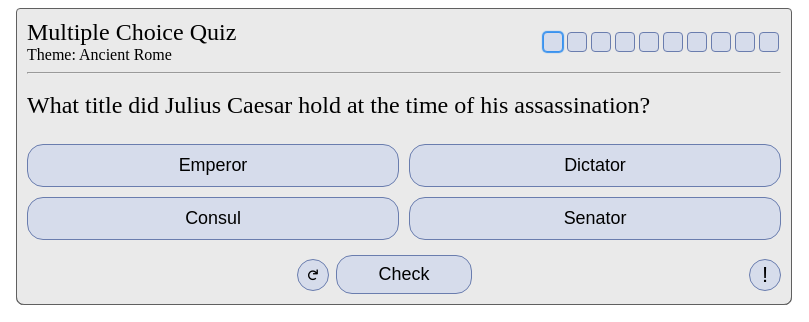
Test case: Multiple Choice Quiz › Settings button is functioning
This screenshot has width=809, height=322.
Click the button with test id "mcq-settings-button" at (765, 274), box [749, 258, 781, 290]
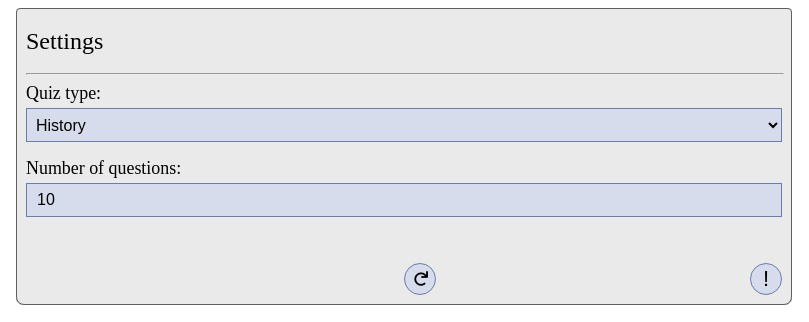
Expected: the element with test id "mcq-settings" is shown
Click the button with test id "mcq-toggle-settings" at (766, 279), box [750, 263, 782, 295]
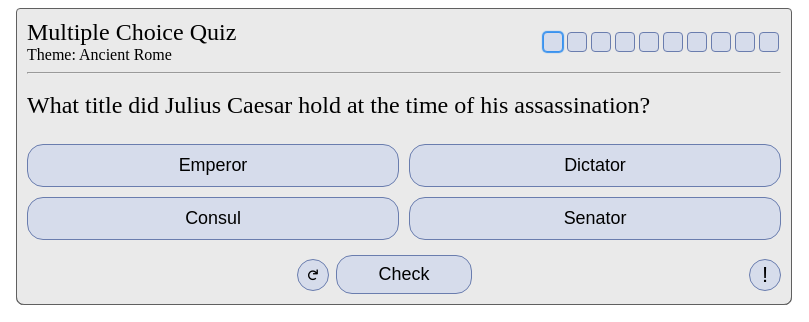
Expected: the element with test id "mcq-settings" is gone
